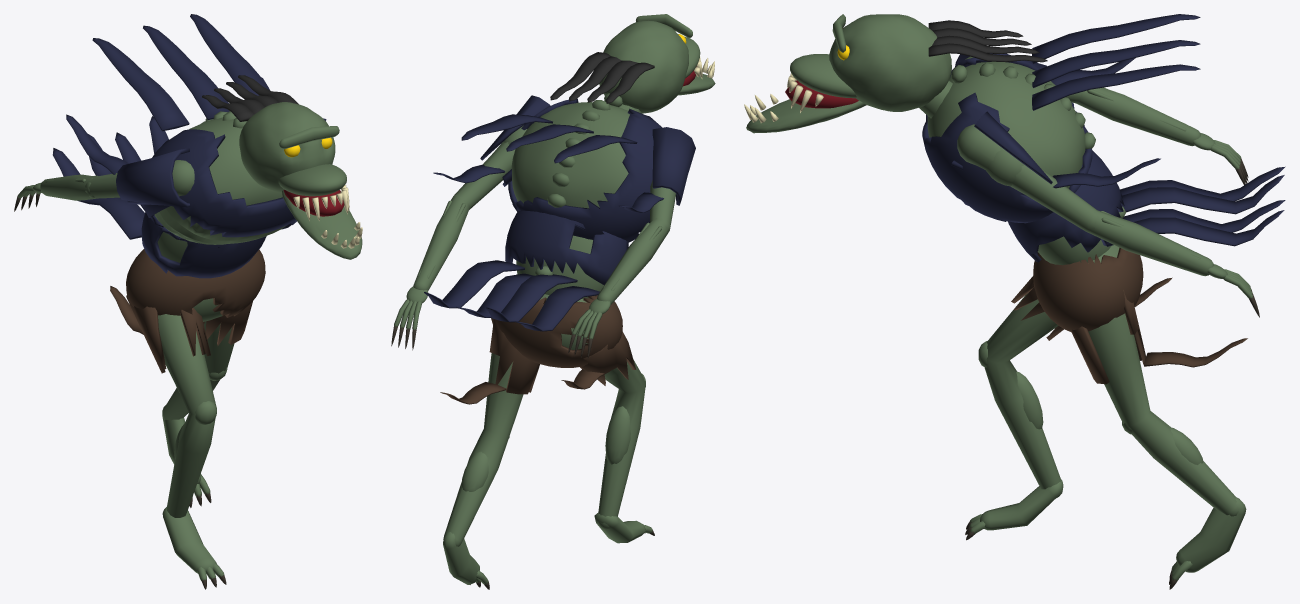
The model's file is zombi_rapido_hd.obj.
3 views of the same model, side by side, from view 1: azimuth 30°, elevation 25°; view 2: azimuth 150°, elevation 25°; view 3: azimuth 270°, elevation 25° (orthographic). The views are drawn at different scales.
Parts seen in each view (by area): view 1: Torso, Head, RightLeg, RightArm, LeftLeg; view 2: Torso, Head, LeftLeg, RightLeg, RightArm, LeftArm; view 3: Torso, Head, LeftLeg, LeftArm, RightLeg, RightArm.
Part boxes in pixels (box(x1,y1,x2,y2)): Torso: box(52, 14, 296, 321); Head: box(202, 75, 362, 259); RightLeg: box(110, 286, 226, 589); RightArm: box(14, 114, 194, 211); LeftLeg: box(162, 301, 252, 507); Torso: box(424, 93, 661, 367); Head: box(550, 14, 715, 113); LeftLeg: box(440, 319, 539, 589); RightLeg: box(561, 331, 654, 543); RightArm: box(568, 127, 695, 358); LeftArm: box(391, 95, 550, 350); Torso: box(919, 14, 1285, 332); Head: box(744, 14, 1047, 133); LeftLeg: box(1071, 290, 1247, 589); LeftArm: box(951, 111, 1259, 317); RightLeg: box(965, 276, 1172, 540); RightArm: box(955, 53, 1248, 185).
Bounding box in the file's own units: 1.71 × 3.71 × 3.34.
1 material, 1 textured.
